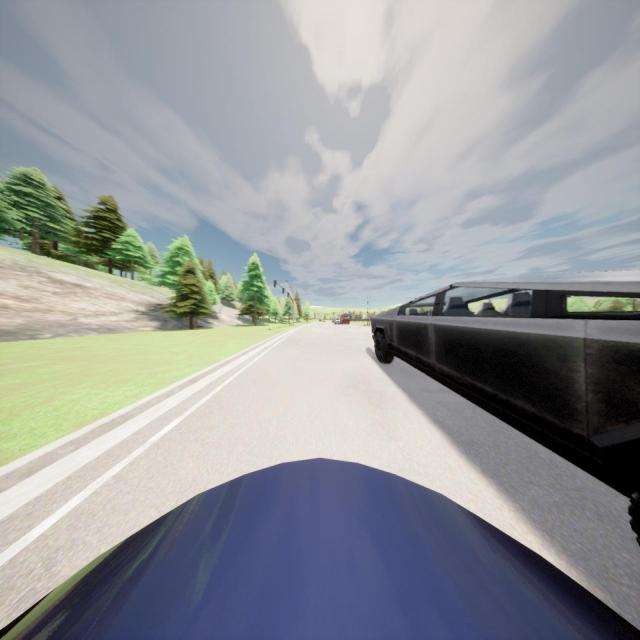Vehicle: (1, 458, 640, 640), (370, 279, 640, 543), (340, 312, 350, 324), (334, 318, 340, 324)
traffic_light: (287, 292, 290, 298), (274, 280, 276, 288), (282, 288, 285, 293)
